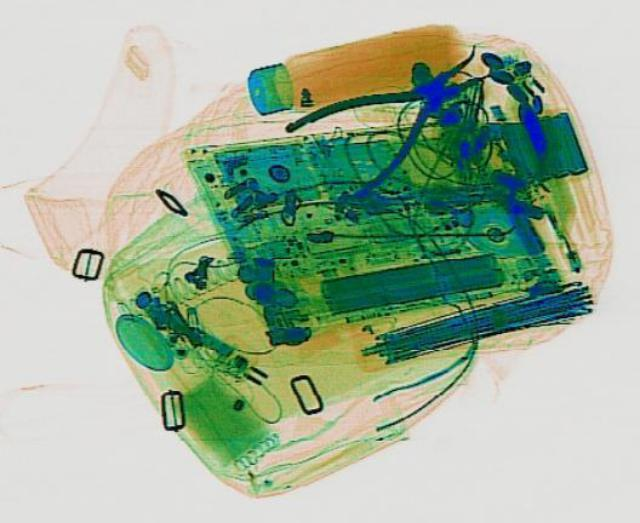Pliers: (276, 23, 528, 199)
